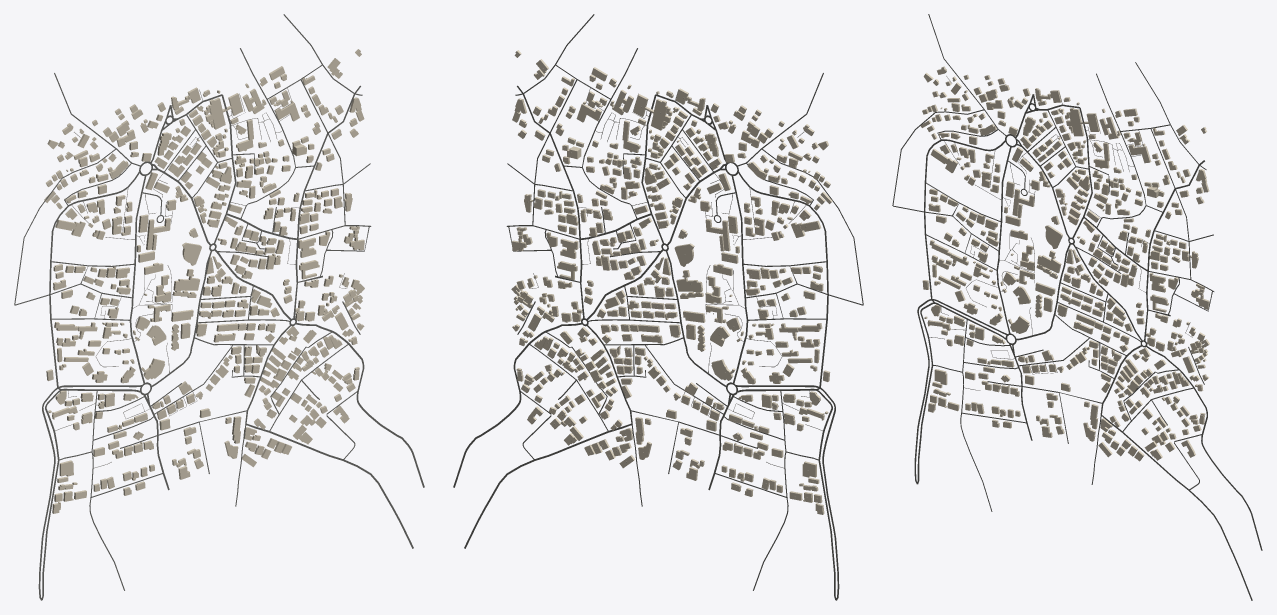
Rendered from historic-palestine-10_24_3520_3189.glb.
The picture shows the model from 3 angles, left to right: view 1: azimuth 30°, elevation 25°; view 2: azimuth 150°, elevation 25°; view 3: azimuth 330°, elevation 25°; orthographic projection. The views are drawn at different scales.
Parts seen in each view (by area): view 1: Road .034, Road Al-Quds.001, Road Al-Quds, Road شارع الجهاد, Road .031; view 2: Road .034, Road Al-Quds.001, Road Al-Quds, Road شارع الجهاد, Road .031; view 3: Road .034, Road Al-Quds, Road Al-Quds.001, Road شارع الجهاد.
Part boxes in pixels (bbox=[...]): Road .034: bbox=[245, 325, 413, 548]; Road Al-Quds.001: bbox=[38, 385, 142, 600]; Road Al-Quds: bbox=[41, 388, 140, 600]; Road شارع الجهاد: bbox=[49, 171, 139, 390]; Road .031: bbox=[295, 322, 424, 487]; Road .034: bbox=[464, 324, 632, 548]; Road Al-Quds.001: bbox=[735, 385, 839, 600]; Road Al-Quds: bbox=[737, 388, 836, 600]; Road شارع الجهاد: bbox=[737, 171, 828, 390]; Road .031: bbox=[453, 322, 582, 487]; Road .034: bbox=[1100, 345, 1252, 600]; Road Al-Quds: bbox=[916, 302, 1006, 484]; Road Al-Quds.001: bbox=[914, 299, 1007, 483]; Road شارع الجهاد: bbox=[924, 139, 1005, 303].
Bounding box in the file's own units: 1250 × 1647 × 23.29.
